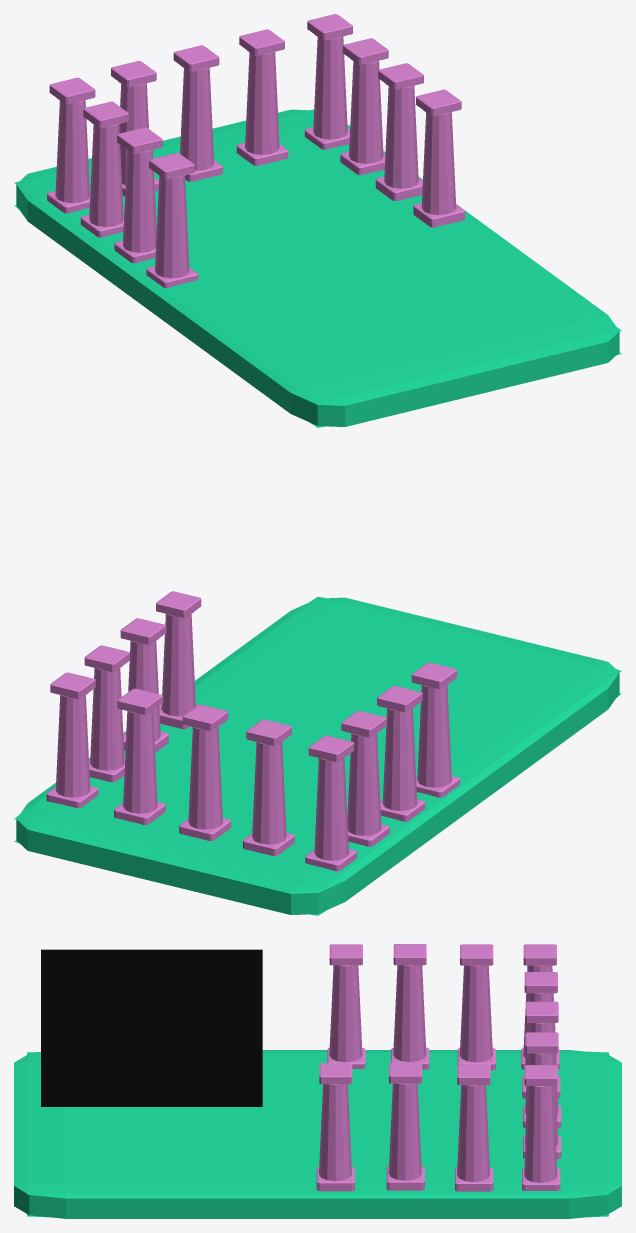
The model's file is Float4.fbx.
3 views of the same model, one above another, from view 1: azimuth 30°, elevation 25°; view 2: azimuth 150°, elevation 25°; view 3: azimuth 270°, elevation 25° (orthographic). The views are drawn at different scales.
Parts seen in each view (by area): view 1: Cube; view 2: Cube; view 3: Cube.
Boxes of the visible parts, x1,y1,x2,y2 form: Cube: [14, 14, 621, 427]; Cube: [14, 591, 621, 915]; Cube: [14, 944, 621, 1218].
Bounding box in the file's own units: 615 × 383 × 1064.
